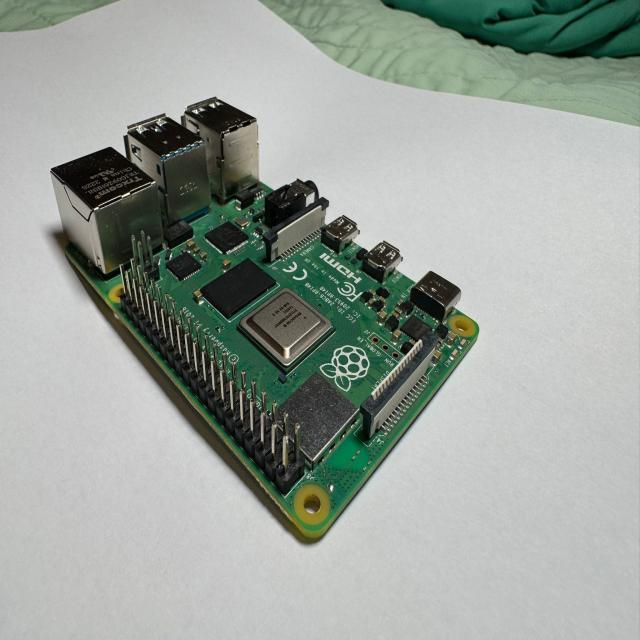CPU: (239, 290, 332, 372)
Ethernet: (49, 148, 162, 279)
GPIO: (115, 261, 307, 494)
RAM: (195, 261, 279, 323)
Raspberry: (48, 100, 480, 549)
micro-hdmi: (360, 240, 404, 283), (320, 216, 359, 258)
